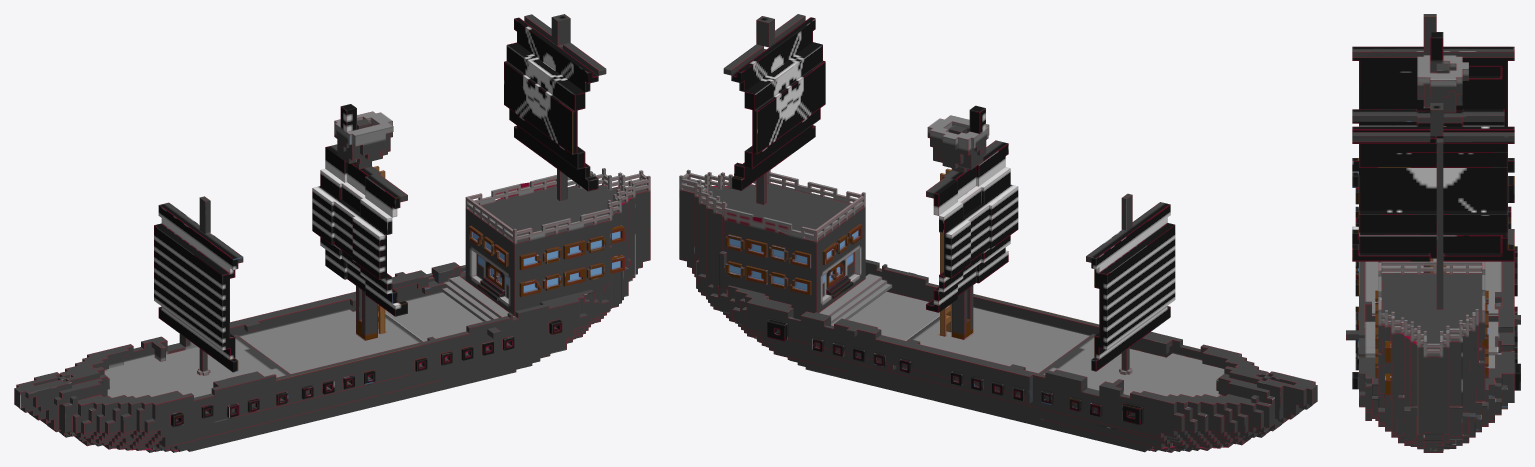
The model's file is Pirate Ship.fbx.
The picture shows the model from 3 angles, left to right: view 1: azimuth 30°, elevation 25°; view 2: azimuth 150°, elevation 25°; view 3: azimuth 270°, elevation 25°; orthographic projection. The views are drawn at different scales.
Visible parts, largest first — view 1: Untitled; view 2: Untitled; view 3: Untitled.
Part boxes in pixels (x1,y1,x2,y2): Untitled: (14, 14, 650, 452); Untitled: (679, 14, 1317, 452); Untitled: (1346, 14, 1520, 452).
Bounding box in the file's own units: 2450 × 1200 × 540.
Materials: 1 (1 with a texture image).
